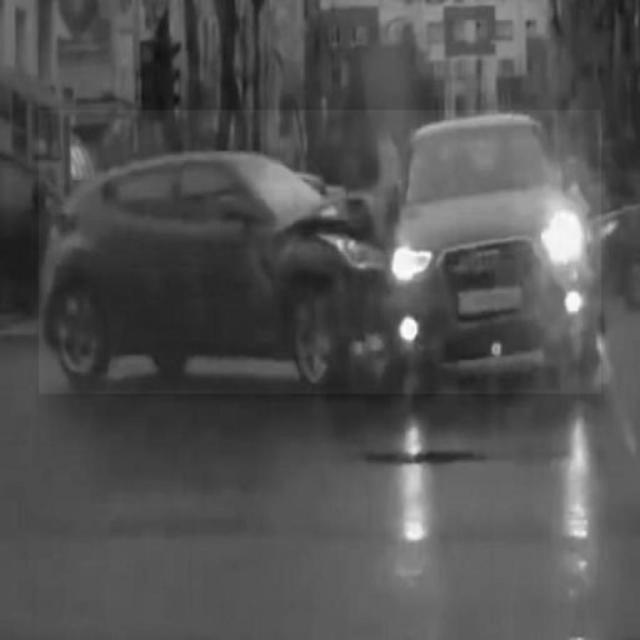accident: (39, 110, 601, 394)
